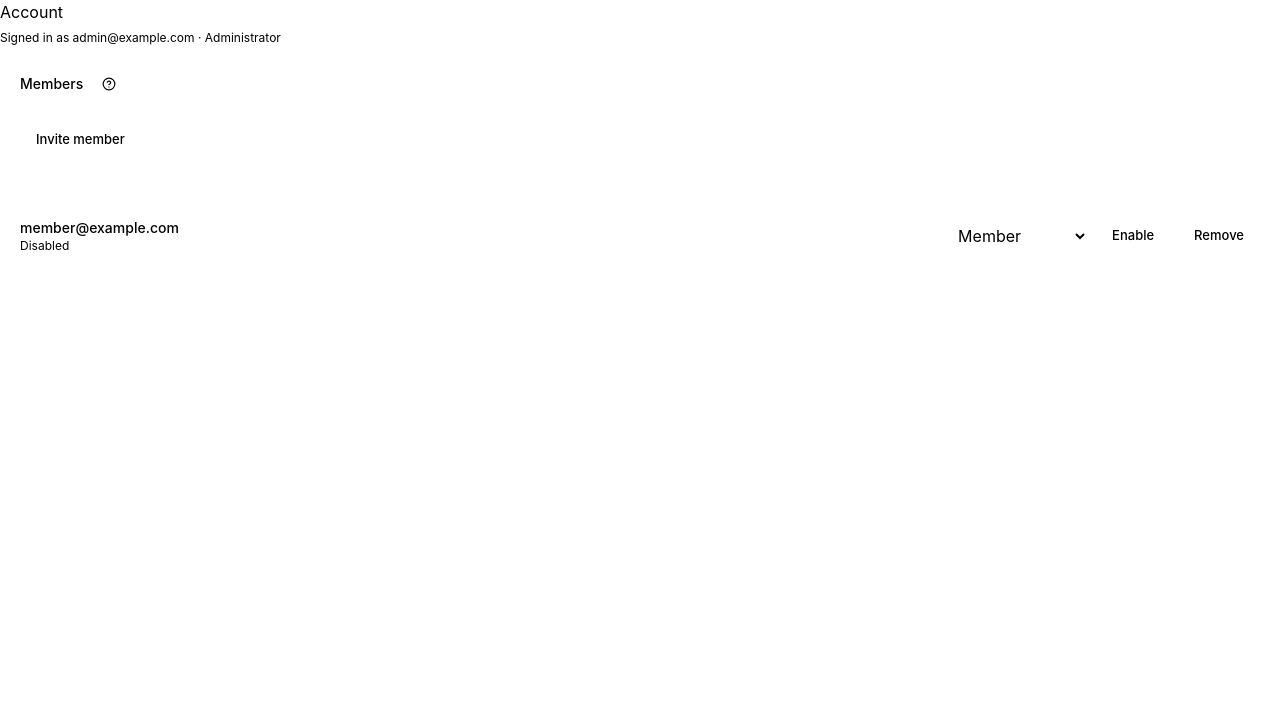
Test: keeps failed removal visible and allows a retry
Click the button "Remove": coordinates (1219, 236) [1178,214,1260,258]
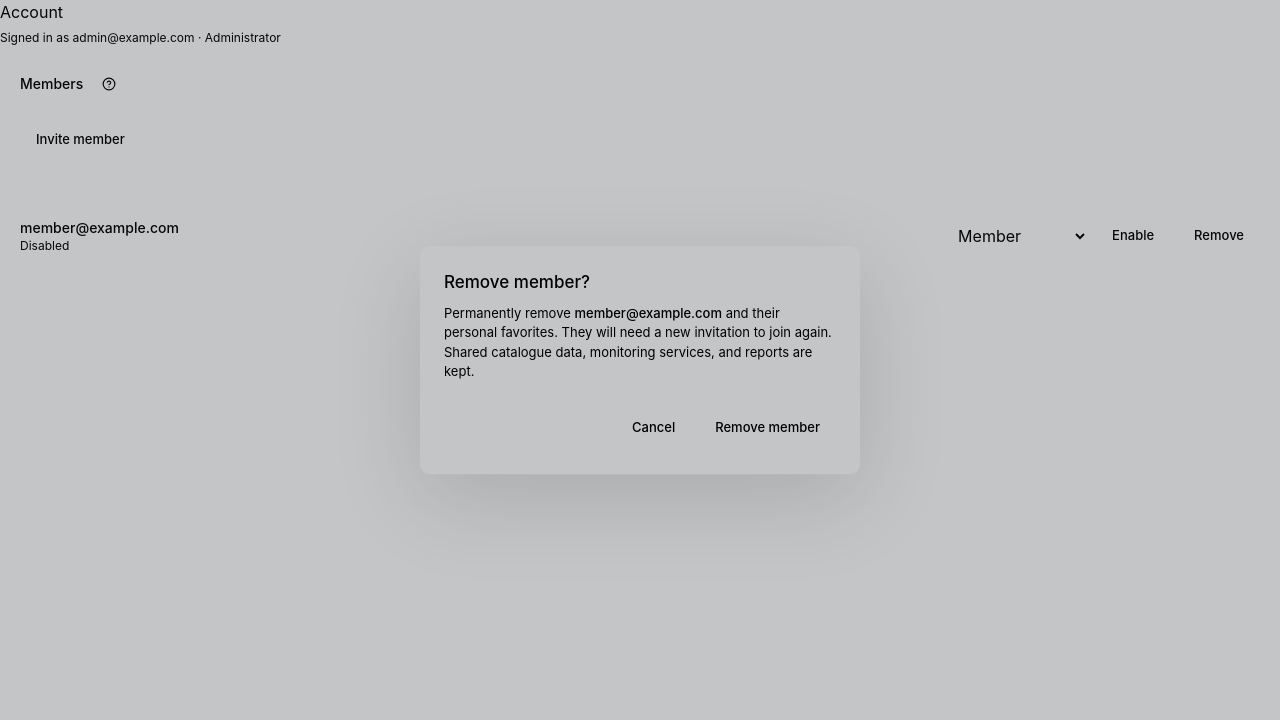
Click the button "Remove member": coordinates (768, 428) [699,406,836,450]
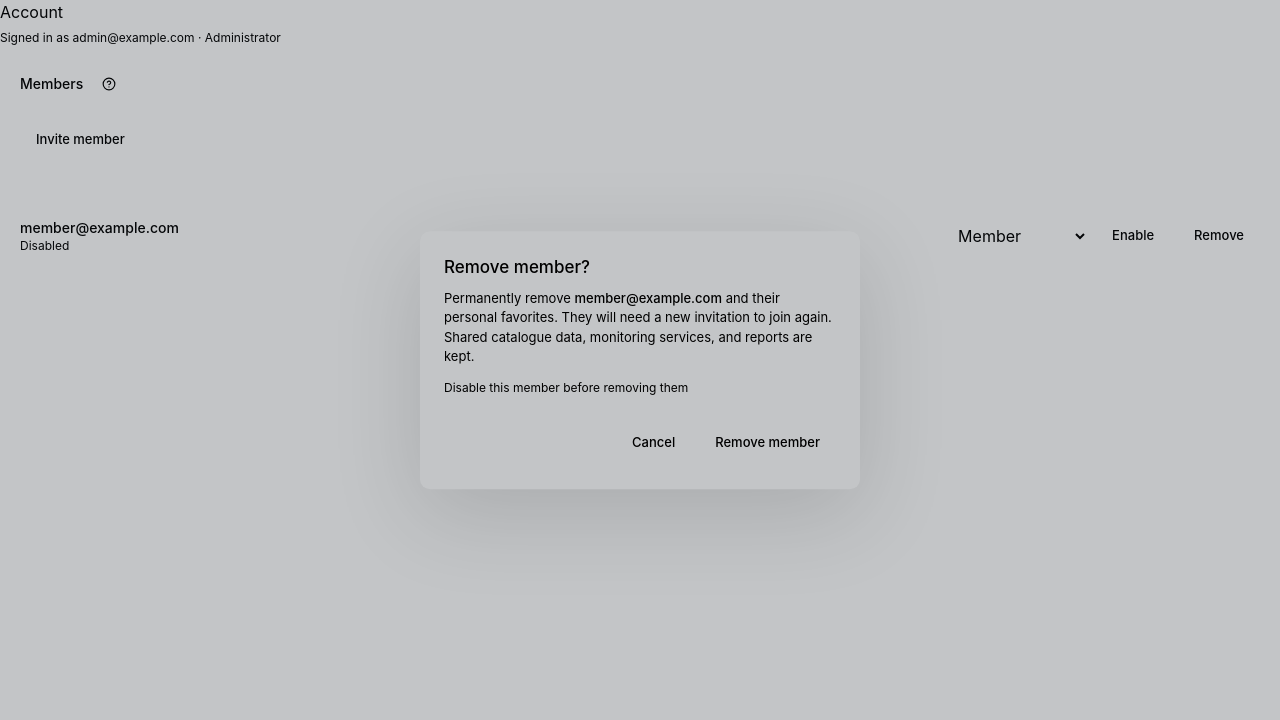
Expected: the text "member@example.com" below "Members" is shown, [20,219,179,236]
Result: the message shows "Disable this member" at [444,380,688,395]
Click the button "Remove member": coordinates (768, 443) [699,421,836,465]
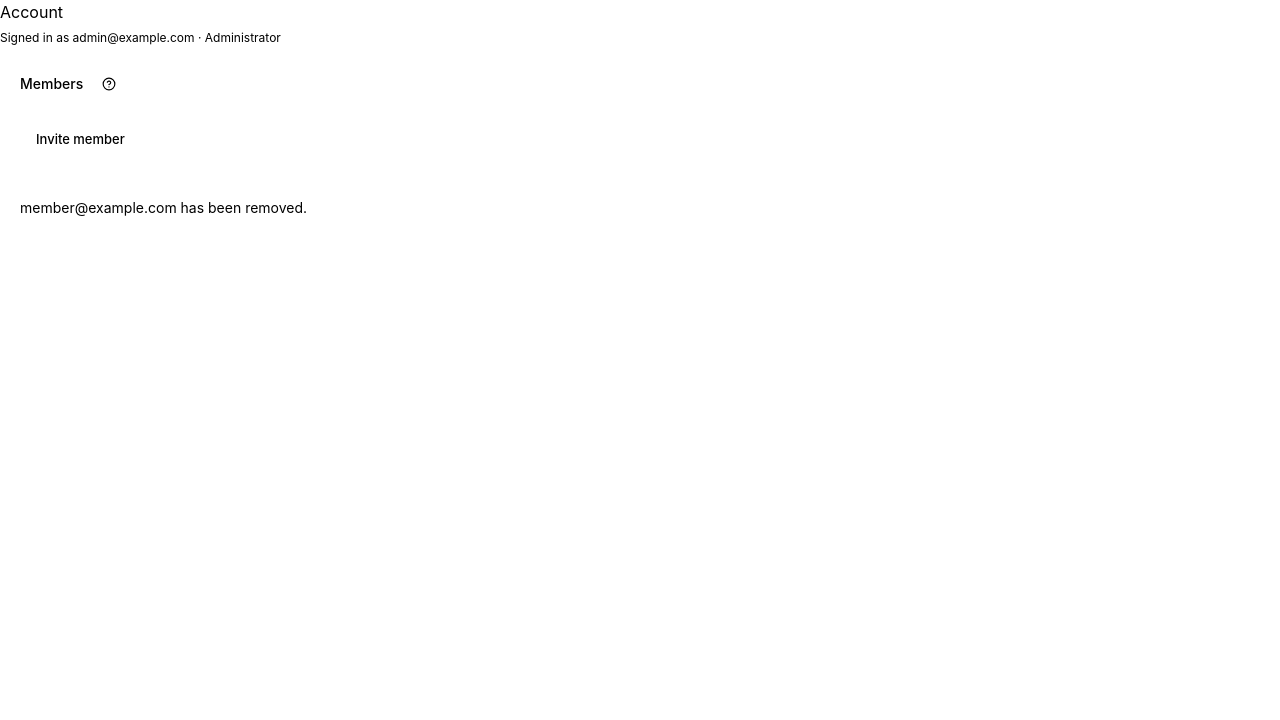
Result: the dialog is gone
